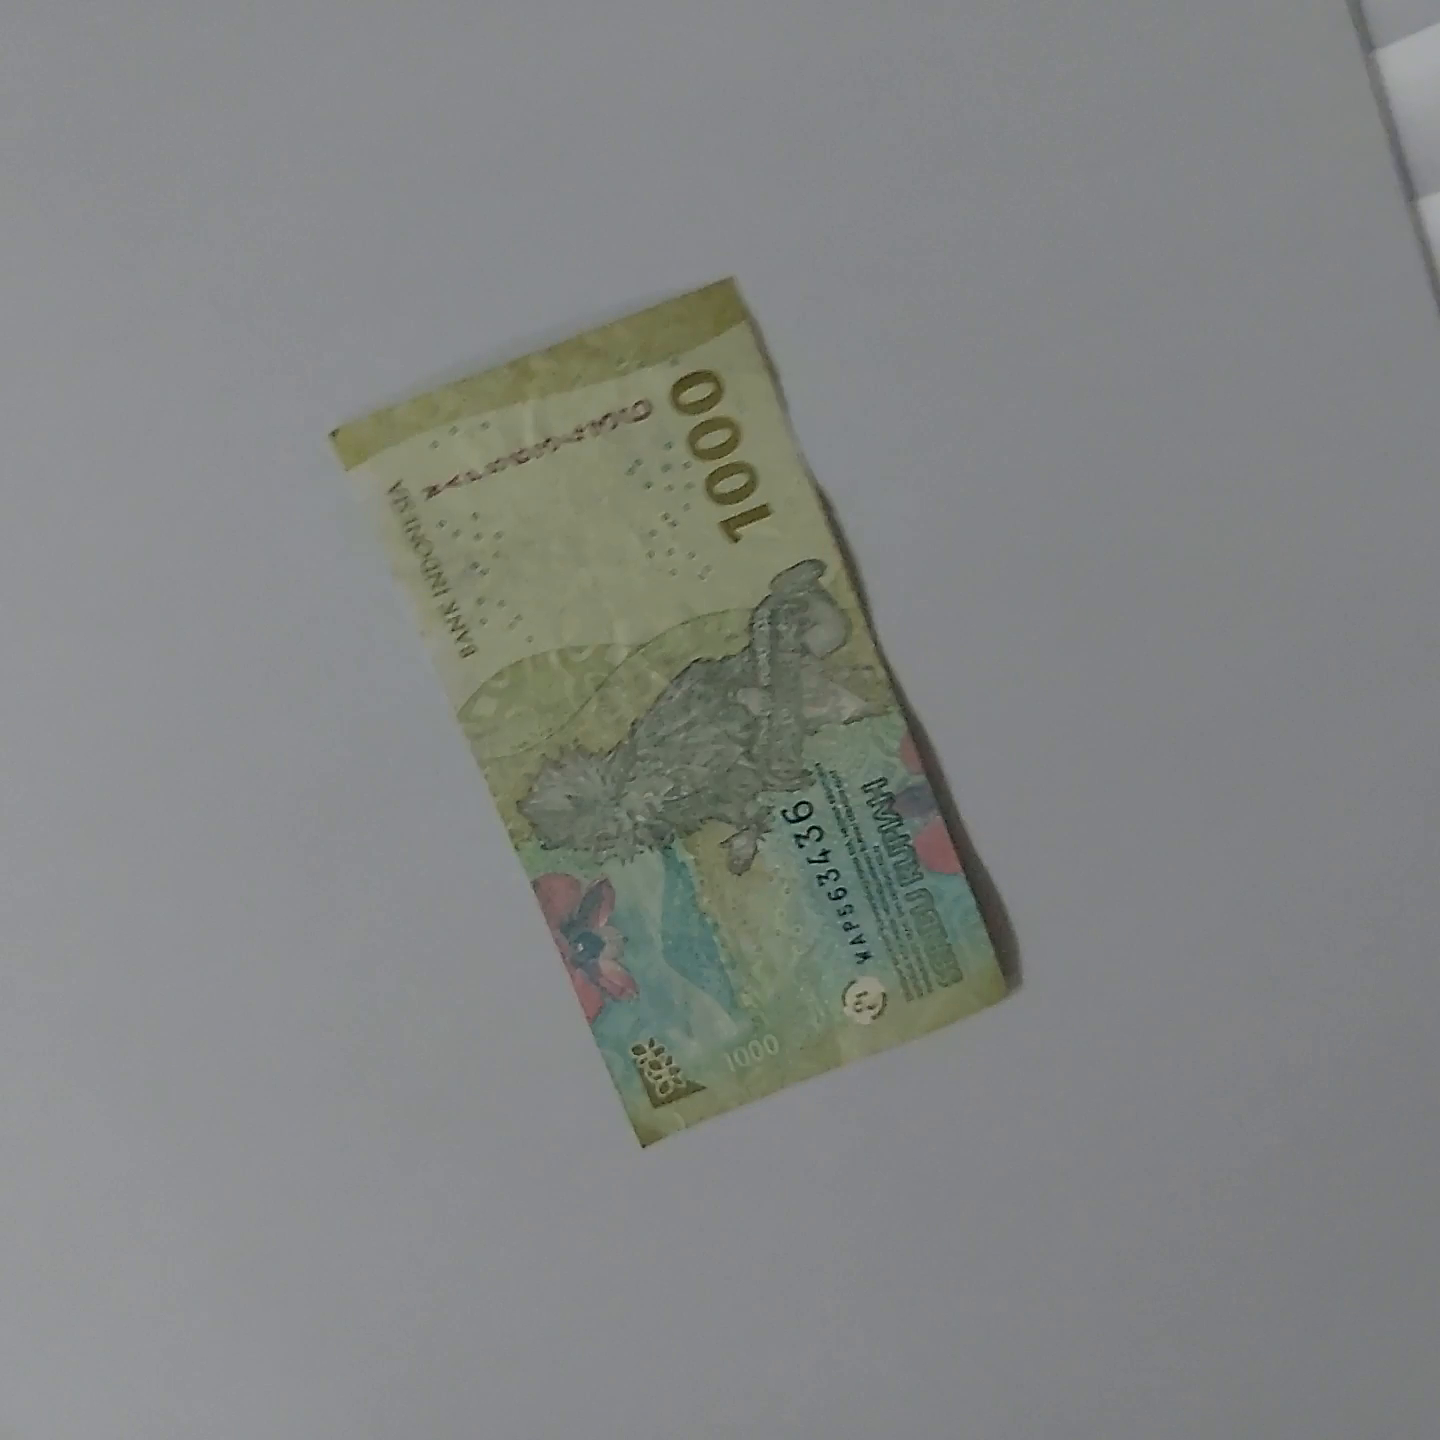1k: (286, 435, 746, 1263)
